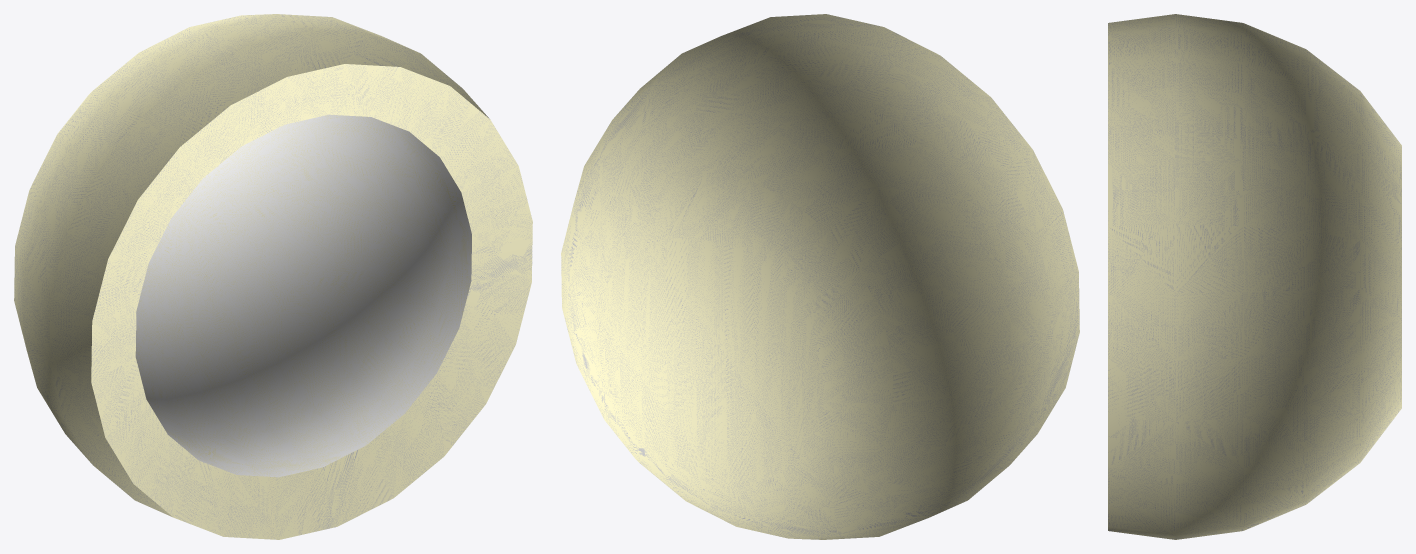
The model's file is model_align.obj.
3 renders of one model, left to right at view 1: azimuth 30°, elevation 25°; view 2: azimuth 150°, elevation 25°; view 3: azimuth 270°, elevation 25°, orthographic.
Parts seen in each view (by area): view 1: mesh1_mesh1-geometry; view 2: mesh1_mesh1-geometry; view 3: mesh1_mesh1-geometry.
Boxes of the visible parts, x1,y1,x2,y2 form: mesh1_mesh1-geometry: (14, 14, 532, 539); mesh1_mesh1-geometry: (561, 14, 1079, 539); mesh1_mesh1-geometry: (1108, 14, 1401, 539).
Bounding box in the file's own units: 0.1591 × 0.1591 × 0.0893.
